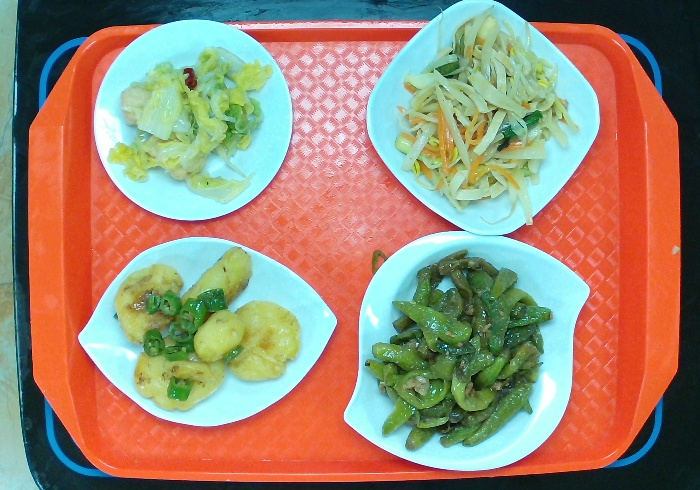RJxy-Da_Du_Pan: (71, 233, 340, 429)
RJxy-Shuang_Jiao_Pan: (340, 225, 593, 479)
RJxy-Si_Fang_Wan: (356, 2, 605, 240)
RJxy-Xiao_Yuan_Die: (87, 15, 301, 224)
